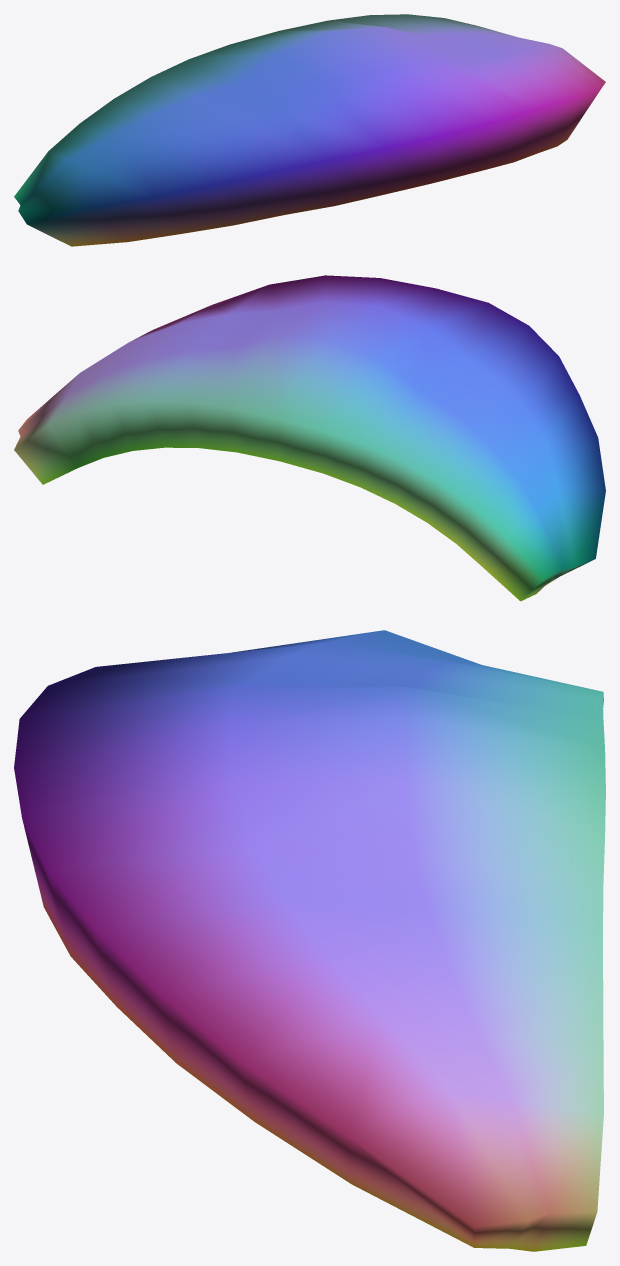
Rendered from SM_Mon_Deserter_Att_Gorget.fbx.
The picture shows the model from 3 angles, top to bottom: view 1: azimuth 30°, elevation 25°; view 2: azimuth 150°, elevation 25°; view 3: azimuth 270°, elevation 25°; orthographic projection. The views are drawn at different scales.
Visible parts, largest first — view 1: SM_Mon_Deserter_Att_Gorget; view 2: SM_Mon_Deserter_Att_Gorget; view 3: SM_Mon_Deserter_Att_Gorget.
Boxes of the visible parts, bbox=[...] form: SM_Mon_Deserter_Att_Gorget: bbox=[14, 14, 605, 246]; SM_Mon_Deserter_Att_Gorget: bbox=[14, 275, 605, 601]; SM_Mon_Deserter_Att_Gorget: bbox=[14, 630, 605, 1251].
Bounding box in the file's own units: 0.3565 × 0.1018 × 0.1734.
